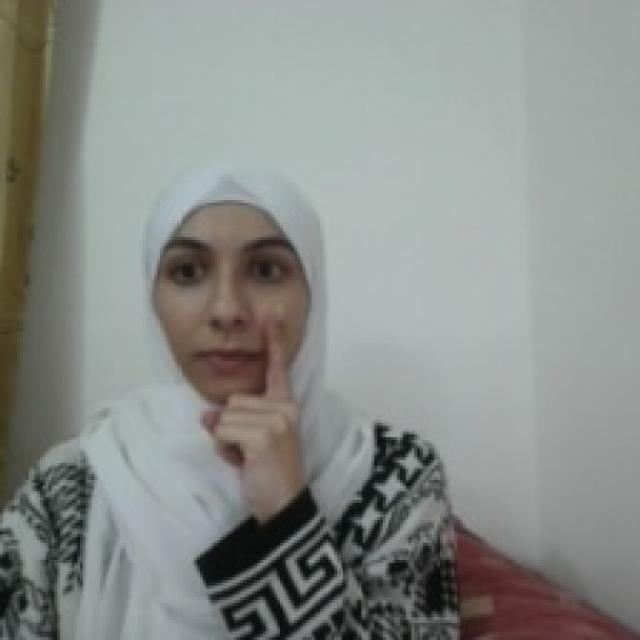mother: (195, 295, 307, 513)
